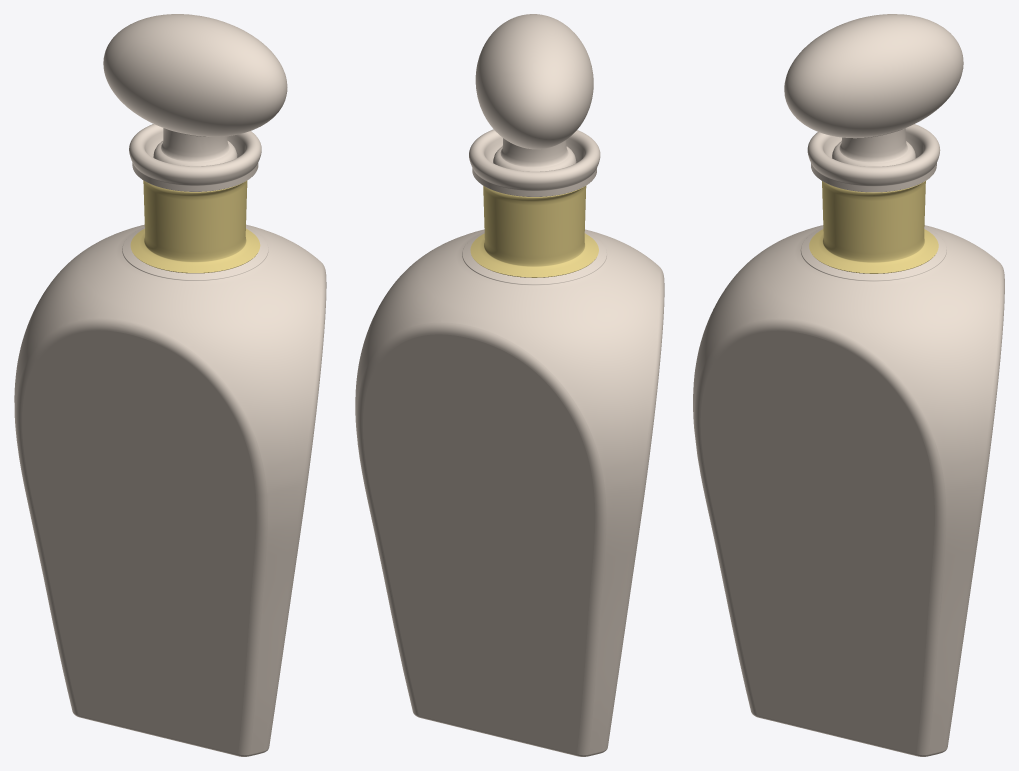
File: bottle3.glb
3 renders of one model, left to right at view 1: azimuth 30°, elevation 25°; view 2: azimuth 150°, elevation 25°; view 3: azimuth 270°, elevation 25°, orthographic.
Parts seen in each view (by area): view 1: botella-glengoyne, tapa-gleygoyne, botella-glengoyne-aro; view 2: botella-glengoyne, tapa-gleygoyne, botella-glengoyne-aro; view 3: botella-glengoyne, tapa-gleygoyne, botella-glengoyne-aro.
Boxes of the visible parts, x1,y1,x2,y2 form: botella-glengoyne: (14, 124, 326, 756); tapa-gleygoyne: (103, 14, 287, 166); botella-glengoyne-aro: (130, 179, 260, 273); botella-glengoyne: (355, 129, 664, 756); tapa-gleygoyne: (475, 14, 593, 171); botella-glengoyne-aro: (470, 185, 598, 277); botella-glengoyne: (693, 124, 1004, 756); tapa-gleygoyne: (784, 14, 963, 166); botella-glengoyne-aro: (809, 180, 938, 273).
Bounding box in the file's own units: 0.995 × 2.24 × 0.9195.
